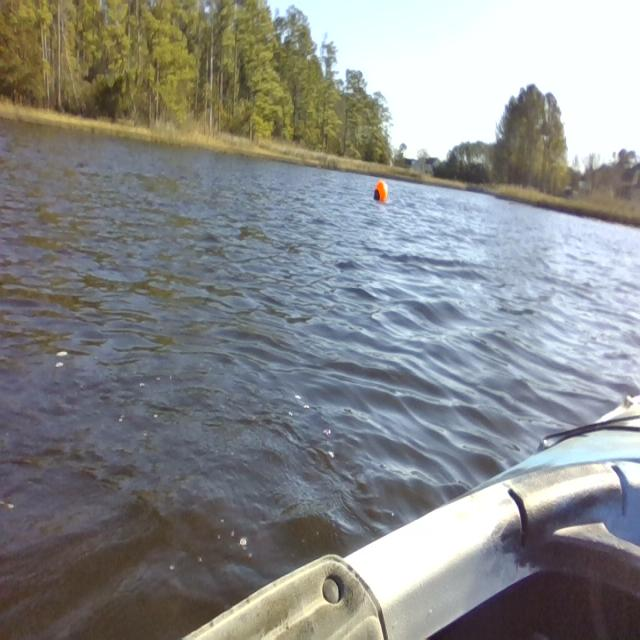Buoy: (371, 174, 394, 209)
